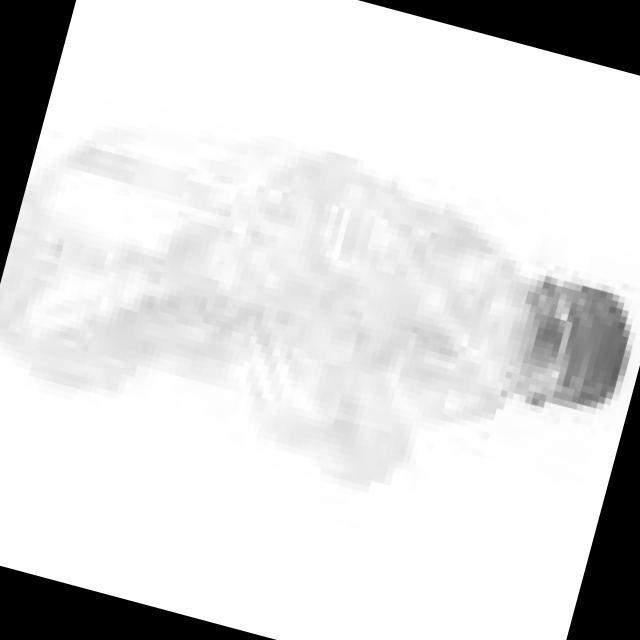defected: (0, 49, 640, 568)
